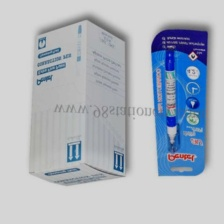book: (26, 17, 128, 188), (148, 27, 210, 178)
correction_fluid: (162, 47, 182, 154)
